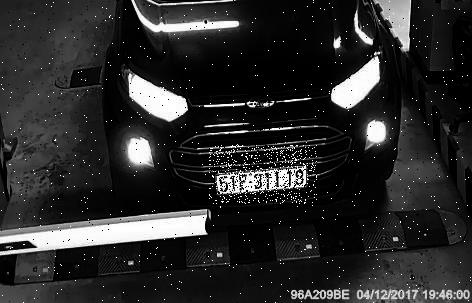License-plate: (211, 146, 319, 205)
